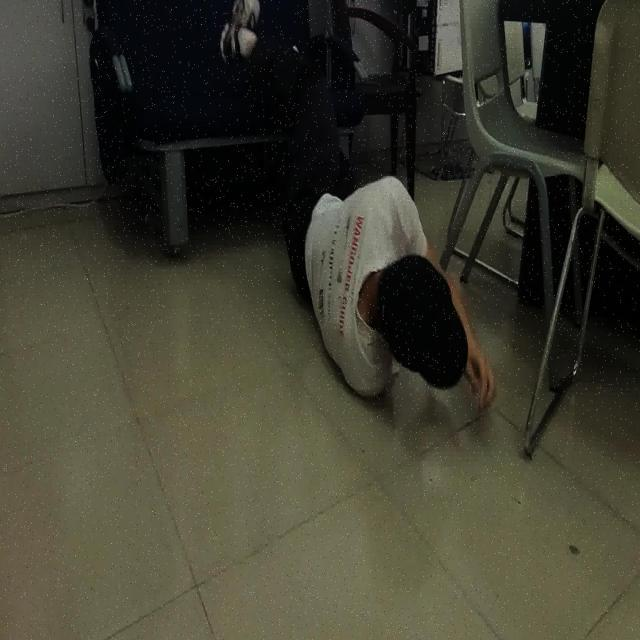fall: (216, 1, 496, 430)
